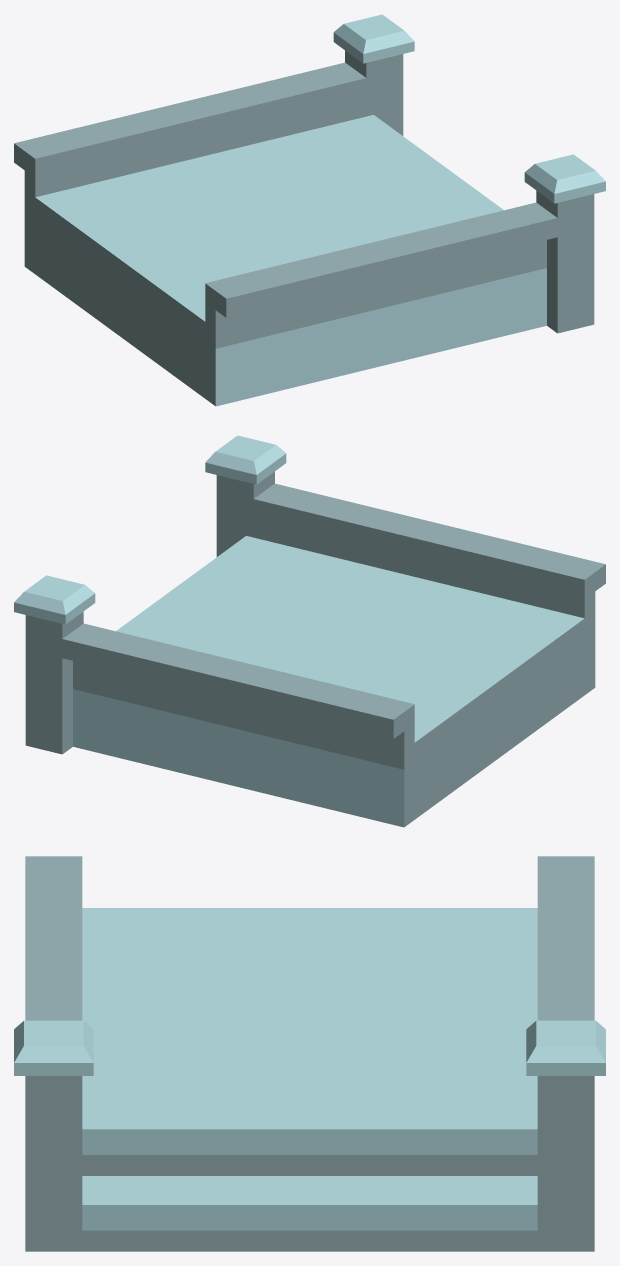
File: bridge_side_stone.obj
3 views of the same model, one above another, from view 1: azimuth 30°, elevation 25°; view 2: azimuth 150°, elevation 25°; view 3: azimuth 270°, elevation 25° (orthographic). The views are drawn at different scales.
Bounding box in the file's own units: 1.02 × 0.4 × 1.04.
